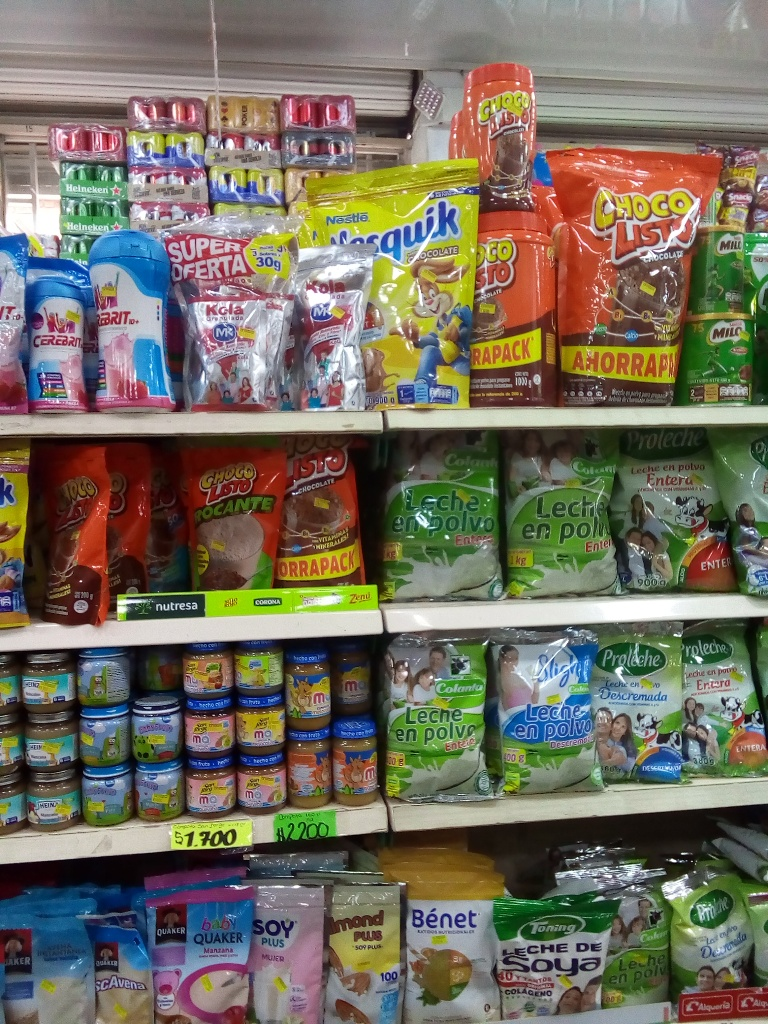COL0170102DYP25000: (180, 440, 271, 589)
COL0170103DYP1,500: (554, 155, 713, 406)
COL0170103DYP20000: (35, 444, 108, 626)
COL0170103DYP36000: (263, 432, 370, 584)
COL0170103TRR00100: (476, 211, 556, 407)
COL0170103TRR30000: (466, 56, 546, 210)
COL0170203LAT20000: (693, 219, 760, 315)
COL0170203LAT40000: (688, 314, 763, 405)
